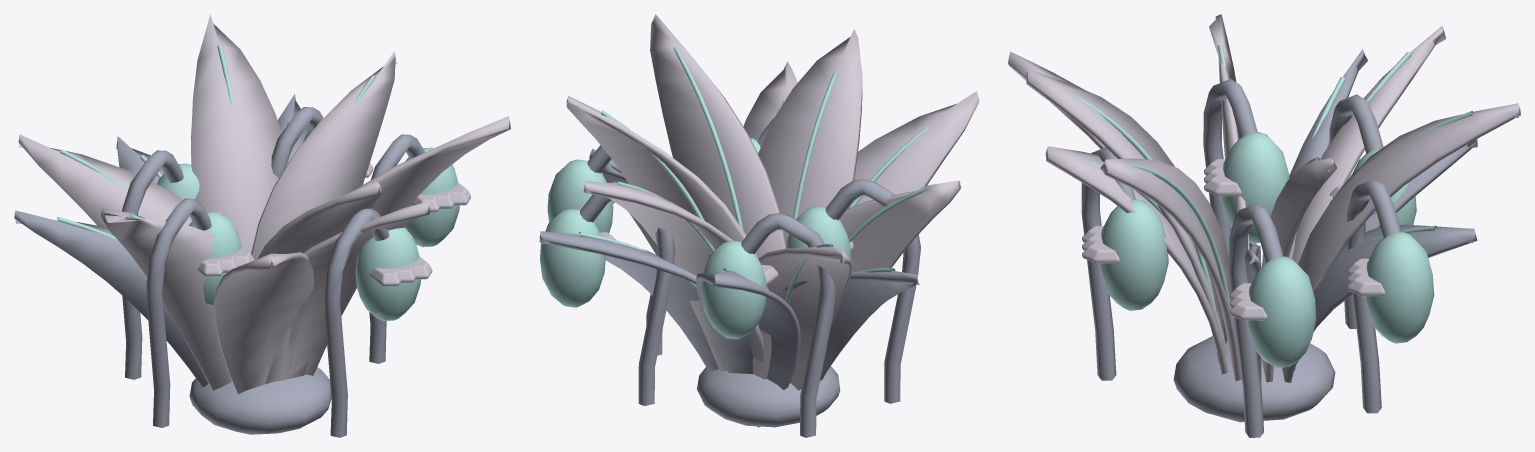
File: bio_mist_leaf_23_far.glb
The picture shows the model from 3 angles, left to right: view 1: azimuth 30°, elevation 25°; view 2: azimuth 150°, elevation 25°; view 3: azimuth 270°, elevation 25°; orthographic projection. The views are drawn at different scales.
Parts seen in each view (by area): view 1: Cupped condensate leaf.011, Cupped condensate leaf.008, Cupped condensate leaf.007, Cupped condensate leaf.004, Root rosette, Cupped condensate leaf.009, Cupped condensate leaf.001, Cupped condensate leaf.010, Arched fruit stem.004, Cupped condensate leaf.002, Arched fruit stem.002, Cupped condensate leaf.005 (+12 smaller); view 2: Cupped condensate leaf.002, Cupped condensate leaf.005, Cupped condensate leaf.008, Cupped condensate leaf.007, Cupped condensate leaf.011, Cupped condensate leaf.004, Cupped condensate leaf.003, Root rosette, Cupped condensate leaf.006, Cupped condensate leaf.001, Arched fruit stem.001, Pendant spore capsule.001 (+13 smaller); view 3: Cupped condensate leaf.011, Root rosette, Cupped condensate leaf.005, Pendant spore capsule, Pendant spore capsule.003, Pendant spore capsule.002, Cupped condensate leaf.002, Cupped condensate leaf.001, Arched fruit stem, Cupped condensate leaf.010, Pendant spore capsule.004, Arched fruit stem.003 (+17 smaller).
Boxes of the visible parts, x1,y1,x2,y2 form: Cupped condensate leaf.011: (191, 14, 288, 253); Cupped condensate leaf.008: (251, 51, 397, 259); Cupped condensate leaf.007: (214, 252, 314, 394); Cupped condensate leaf.004: (100, 208, 231, 390); Root rosette: (189, 367, 331, 434); Cupped condensate leaf.009: (14, 210, 208, 387); Cupped condensate leaf.001: (18, 134, 191, 226); Cupped condensate leaf.010: (289, 201, 430, 376); Arched fruit stem.004: (146, 198, 211, 427); Cupped condensate leaf.002: (257, 182, 381, 383); Arched fruit stem.002: (323, 208, 389, 437); Cupped condensate leaf.005: (315, 116, 510, 370); Cupped condensate leaf.002: (758, 29, 862, 243); Cupped condensate leaf.005: (650, 14, 786, 258); Cupped condensate leaf.008: (566, 96, 746, 241); Cupped condensate leaf.007: (849, 91, 979, 206); Cupped condensate leaf.011: (583, 181, 771, 379); Cupped condensate leaf.004: (821, 180, 961, 380); Cupped condensate leaf.003: (539, 231, 764, 372); Root rosette: (697, 366, 840, 427); Cupped condensate leaf.006: (696, 271, 800, 427); Cupped condensate leaf.001: (758, 246, 852, 427); Arched fruit stem.001: (741, 213, 835, 437); Pendant spore capsule.001: (701, 240, 766, 339); Cupped condensate leaf.011: (1294, 103, 1520, 370); Root rosette: (1173, 336, 1335, 422); Cupped condensate leaf.005: (1100, 158, 1241, 380); Pendant spore capsule: (1247, 256, 1316, 368); Pendant spore capsule.003: (1364, 232, 1434, 343); Pendant spore capsule.002: (1099, 199, 1168, 310); Cupped condensate leaf.002: (1026, 69, 1222, 364); Cupped condensate leaf.001: (1292, 25, 1446, 264); Arched fruit stem: (1229, 203, 1283, 437); Cupped condensate leaf.010: (1045, 146, 1228, 374); Pendant spore capsule.004: (1221, 132, 1289, 243); Arched fruit stem.003: (1347, 178, 1400, 413).
Bounding box in the file's own units: 1.94 × 1.42 × 1.9.
